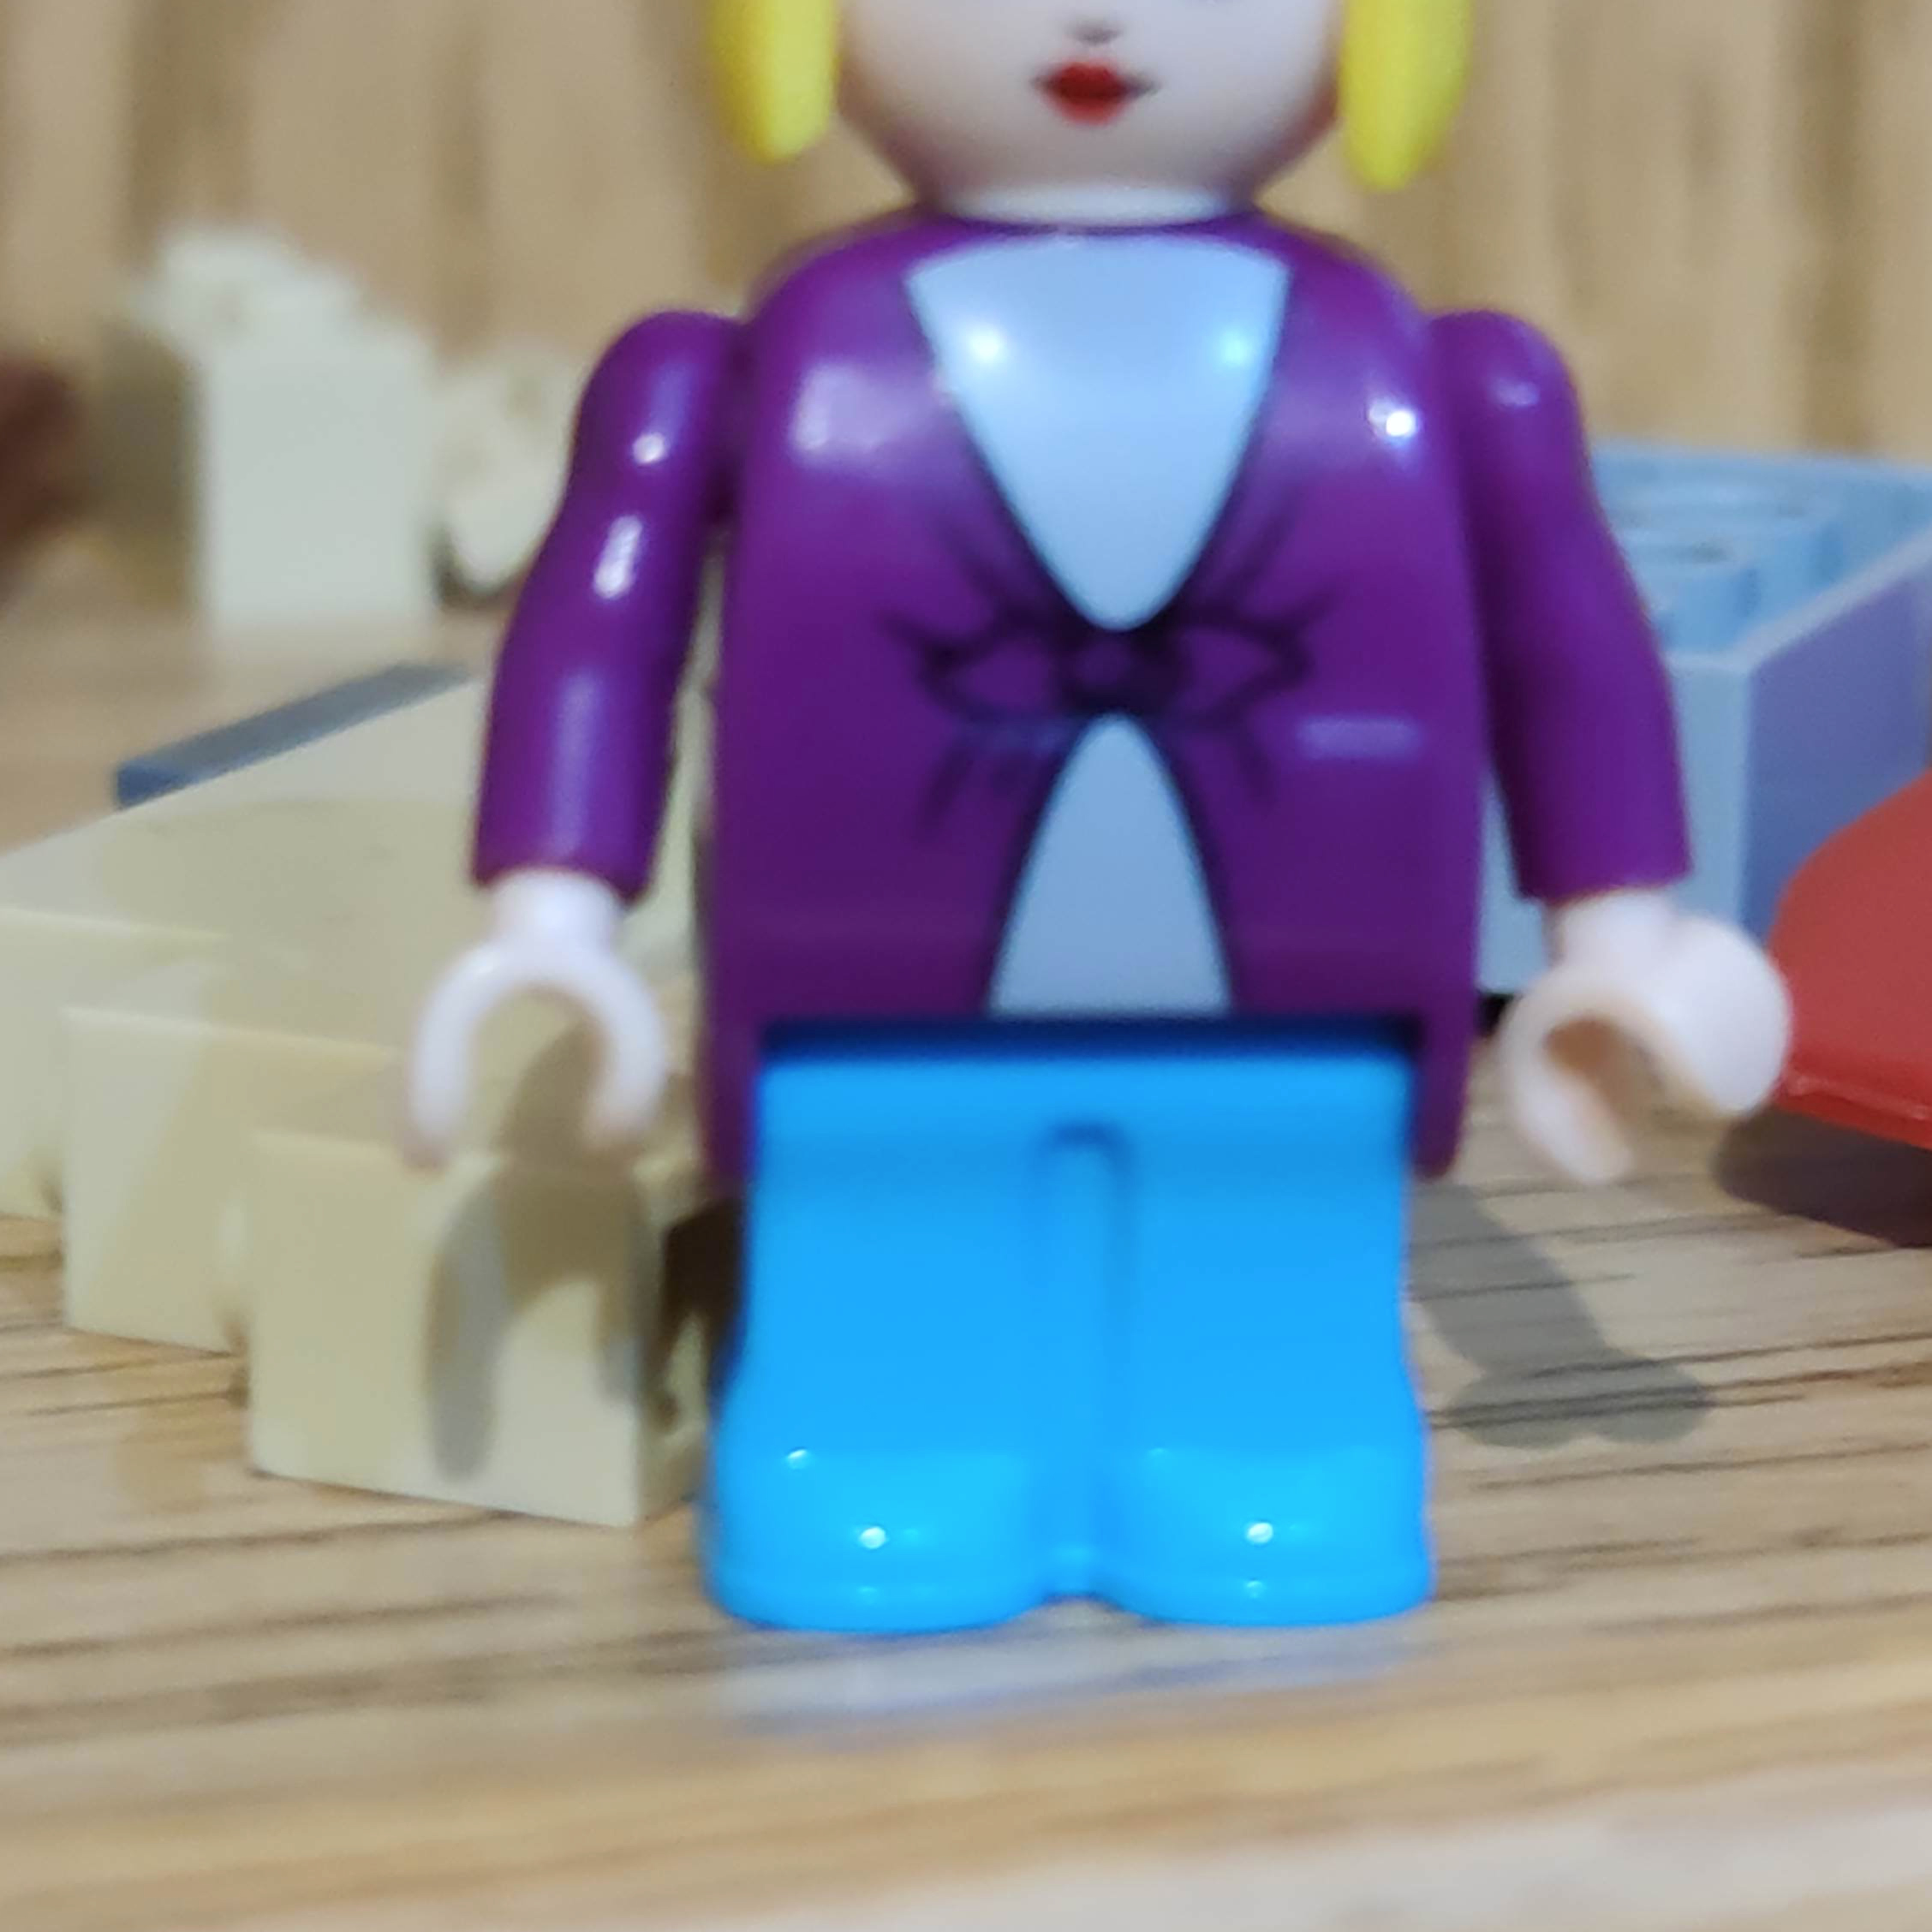lego: (395, 0, 1789, 1635)
